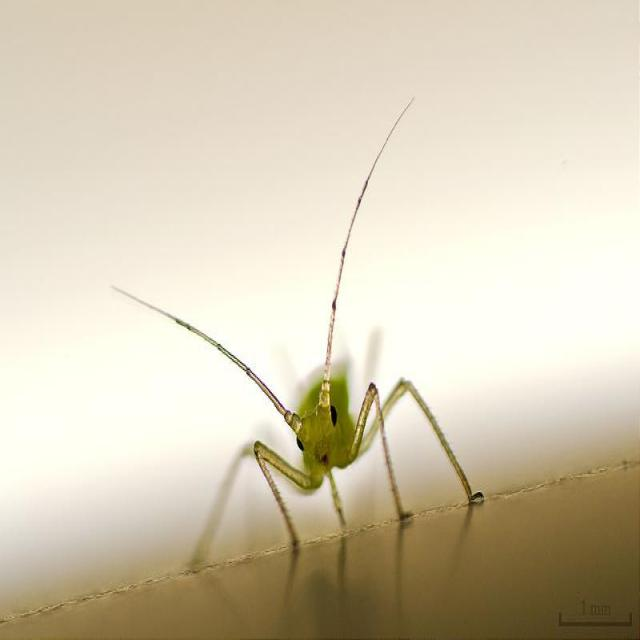Aphids: (80, 176, 496, 585)
